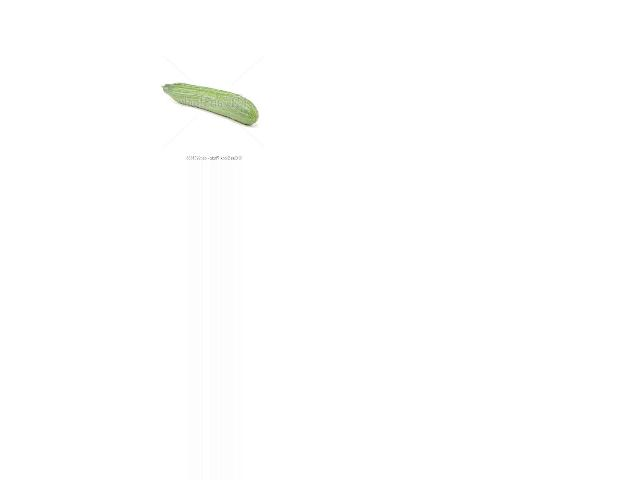cucumber: (160, 83, 257, 125)
